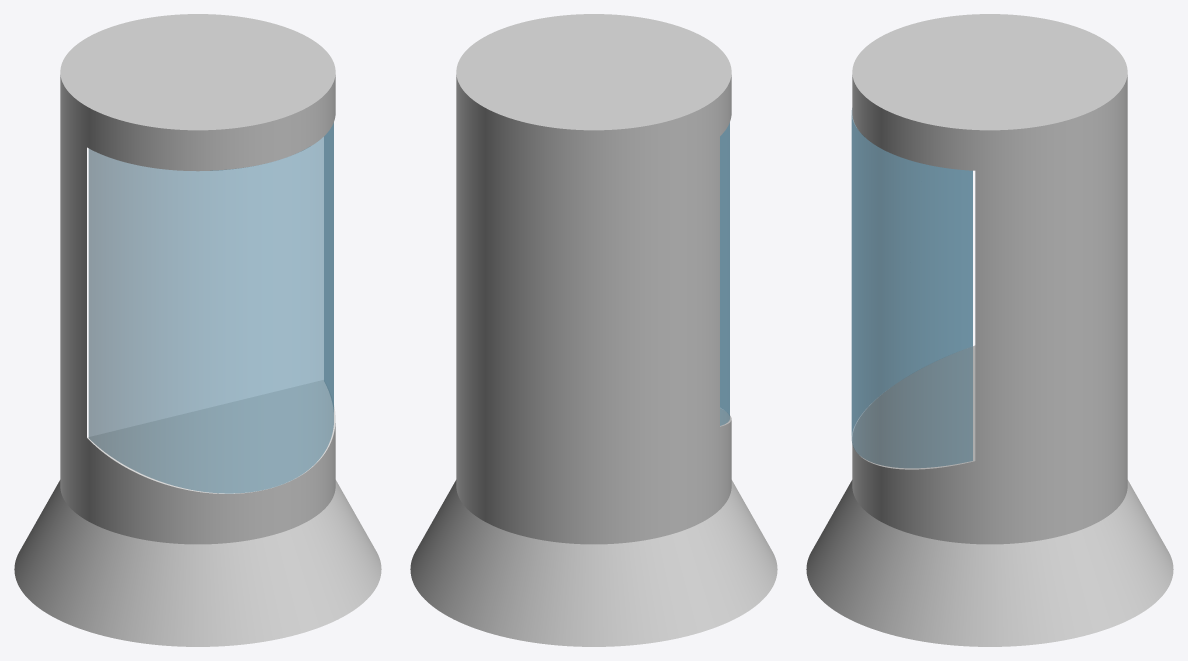
Rendered from container.glb.
The picture shows the model from 3 angles, left to right: view 1: azimuth 30°, elevation 25°; view 2: azimuth 150°, elevation 25°; view 3: azimuth 270°, elevation 25°; orthographic projection.
Parts seen in each view (by area): view 1: Cone, Cone.001; view 2: Cone, Cone.001; view 3: Cone, Cone.001.
Boxes of the visible parts, x1,y1,x2,y2 form: Cone: (14, 14, 381, 646); Cone.001: (88, 122, 333, 493); Cone: (410, 14, 777, 646); Cone.001: (720, 122, 729, 425); Cone: (806, 14, 1173, 646); Cone.001: (851, 108, 972, 468).
Size of the model in its own units: 4 by 5.98 by 4.
